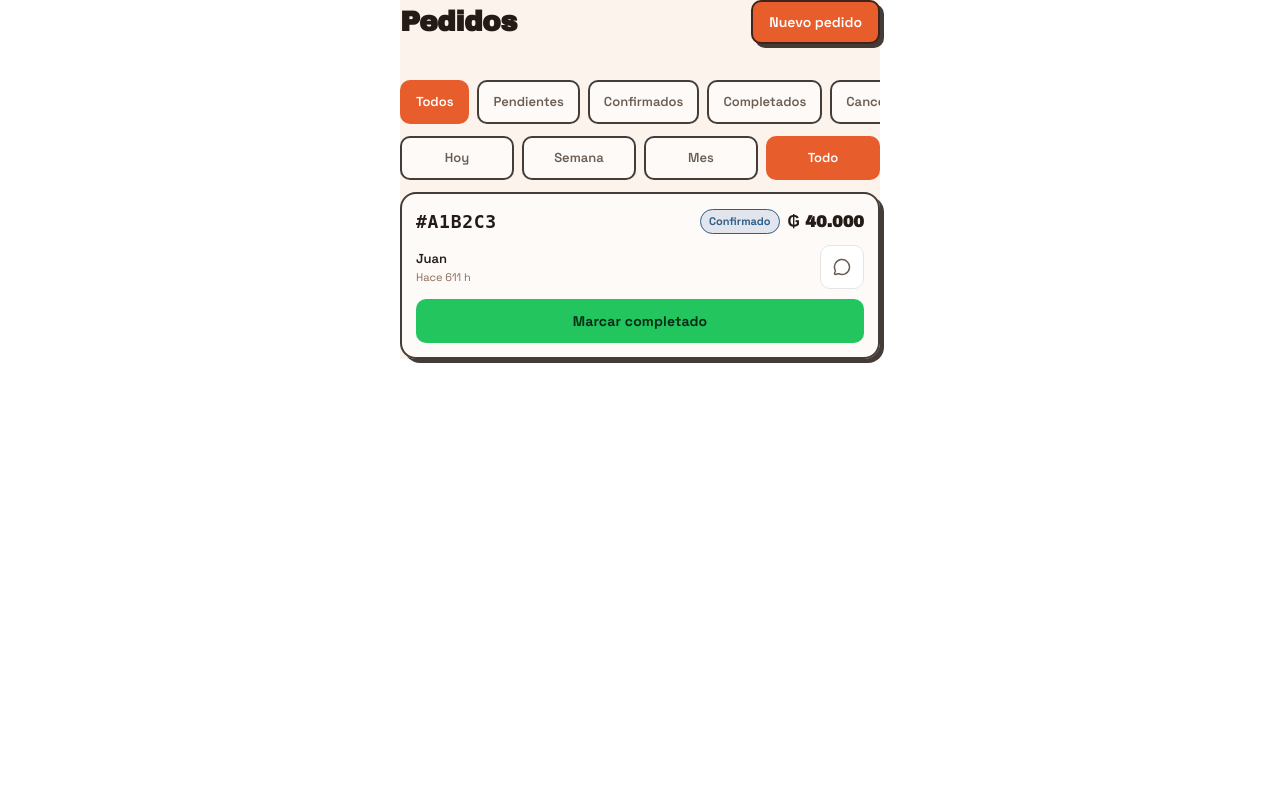
Scenario: OrdersPage (REQ: incoming orders panel) › marcar "confirmed" como completado abre OrderPaymentSheet en vez de actualizar directo (SW-O1)
Check: the text "#A1B2C3" is shown, box [416, 211, 497, 232]
Click the button "Marcar completado": coordinates (640, 321) [416, 299, 864, 343]
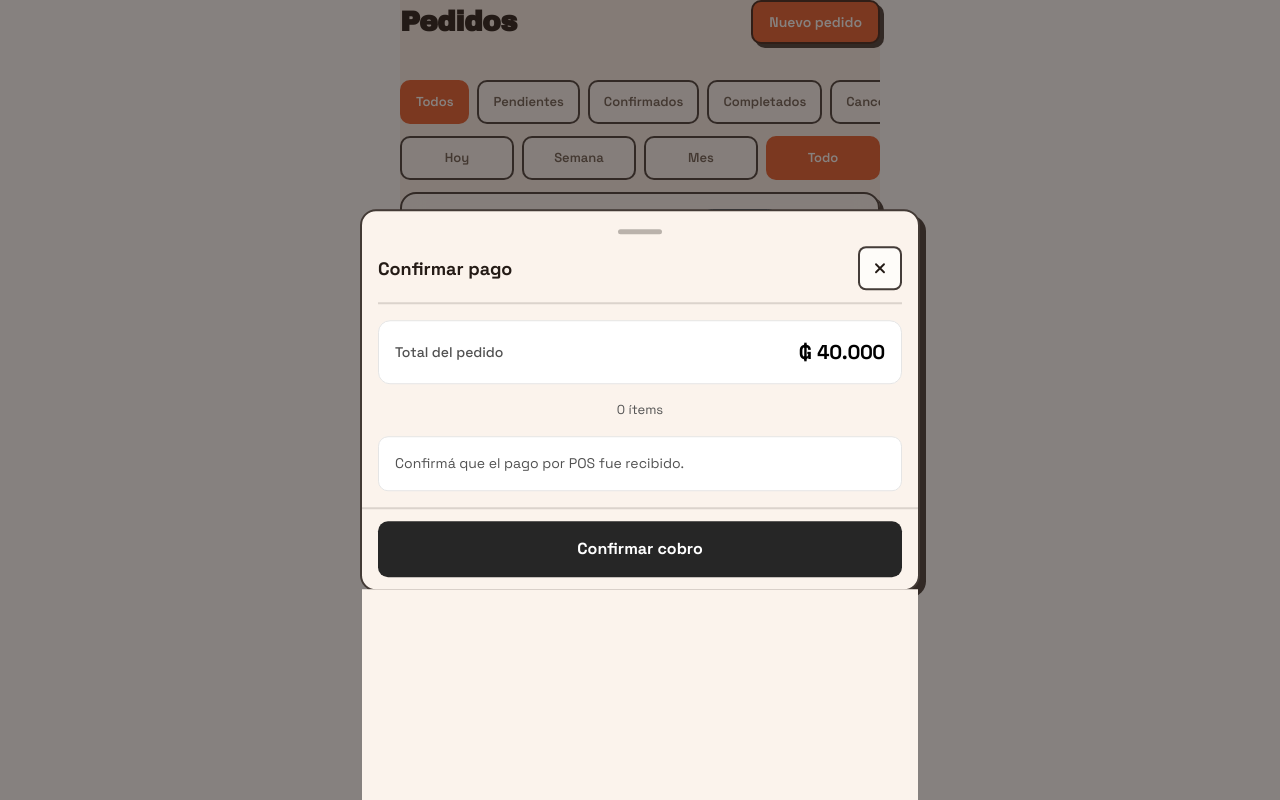
Check: the heading "Confirmar pago" is shown, box [378, 255, 512, 282]
